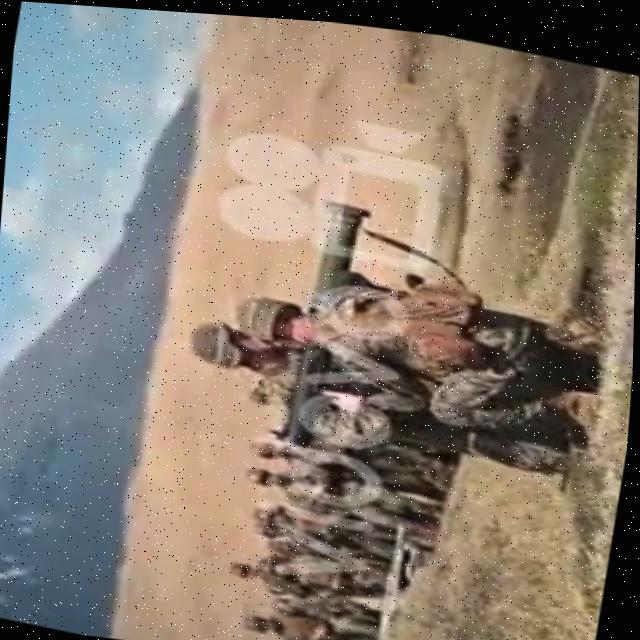rocket: (273, 190, 368, 450)
